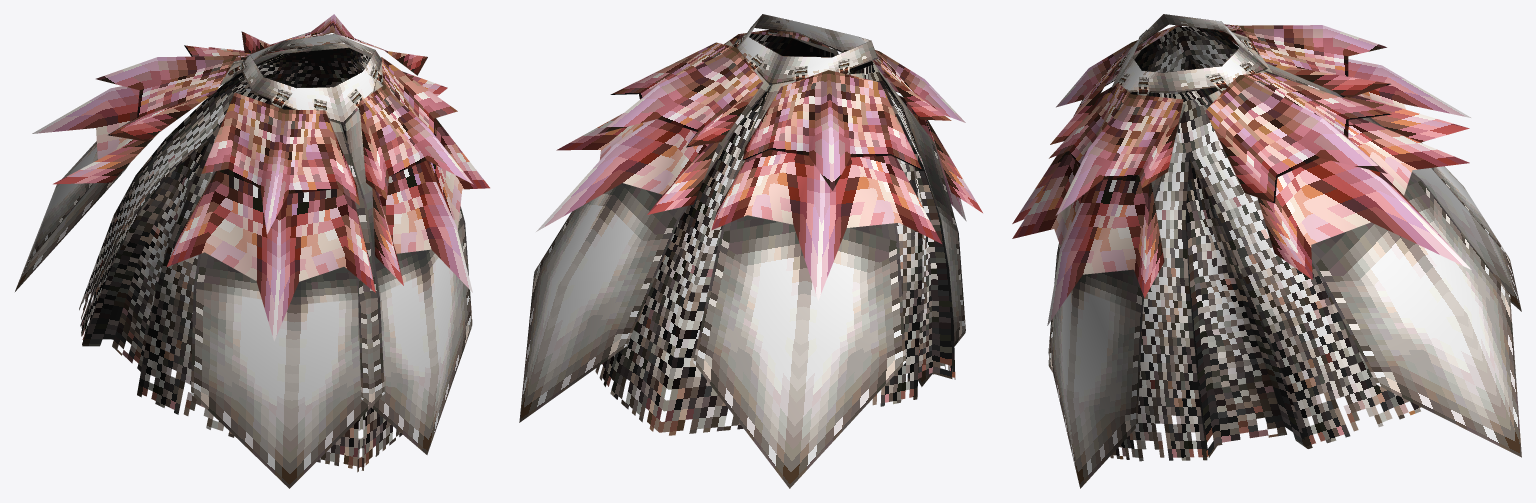
File: f_wst045.glb
The picture shows the model from 3 angles, left to right: view 1: azimuth 30°, elevation 25°; view 2: azimuth 150°, elevation 25°; view 3: azimuth 270°, elevation 25°; orthographic projection. The views are drawn at different scales.
Size of the model in its own units: 100 by 91.95 by 104.
Materials: 1 (1 with a texture image).
